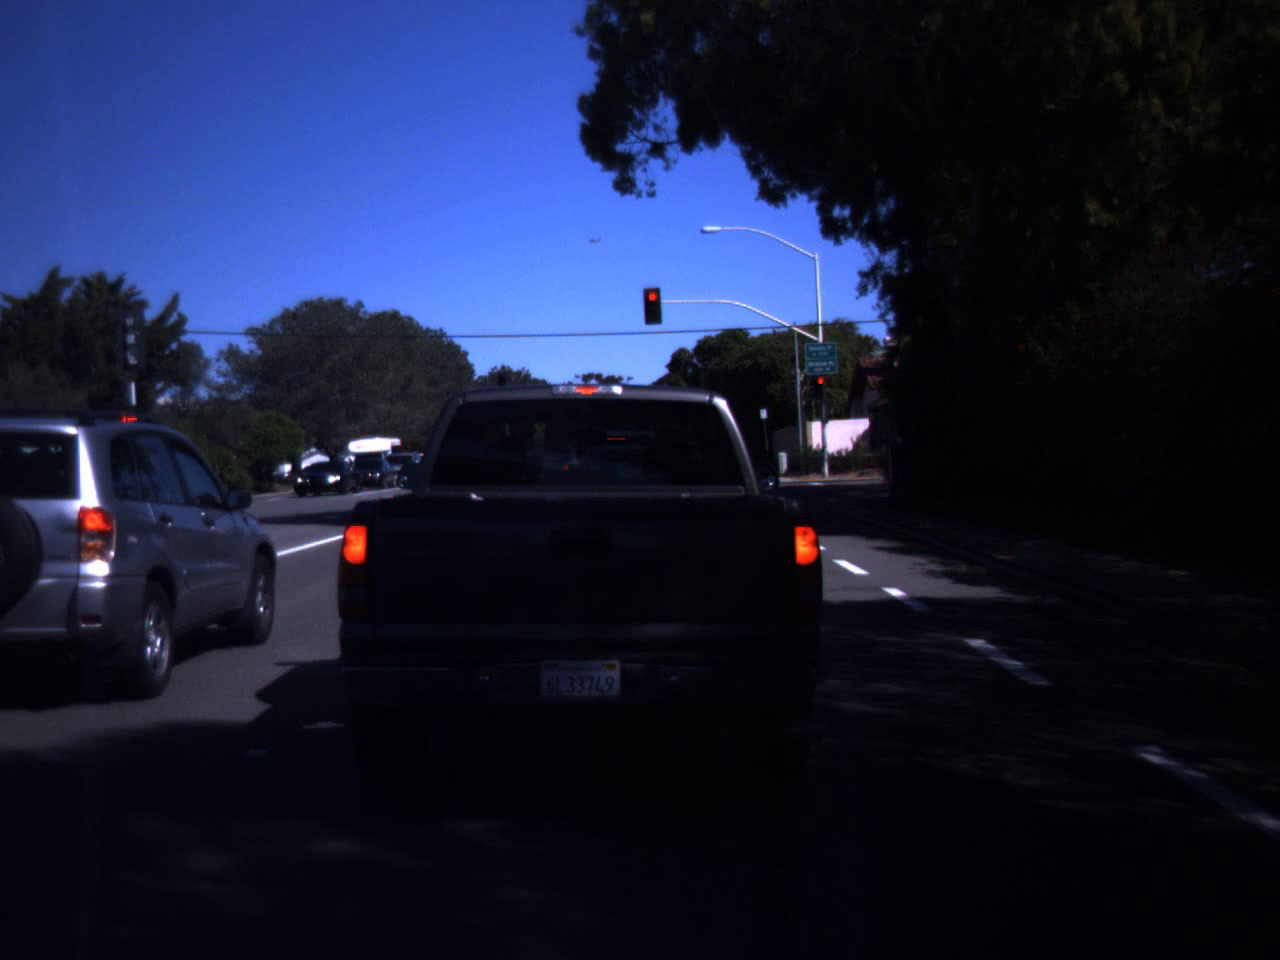stop: (105, 409, 153, 449), (644, 290, 662, 312), (814, 376, 826, 394)
